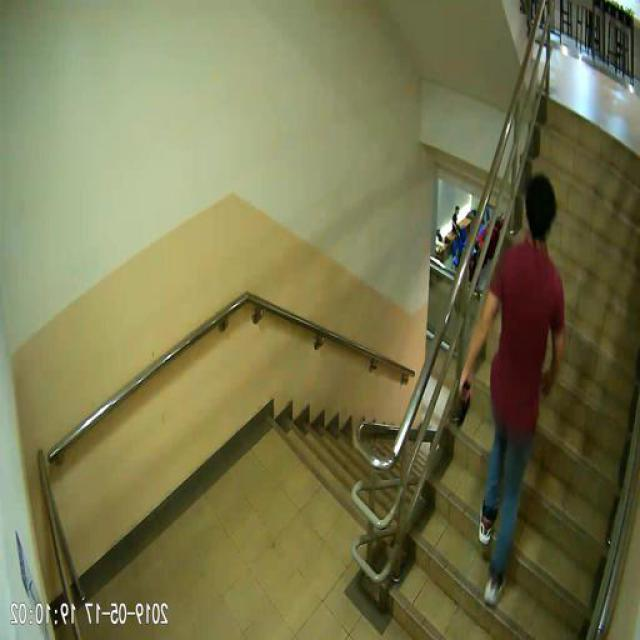Gun: (460, 378, 475, 426)
